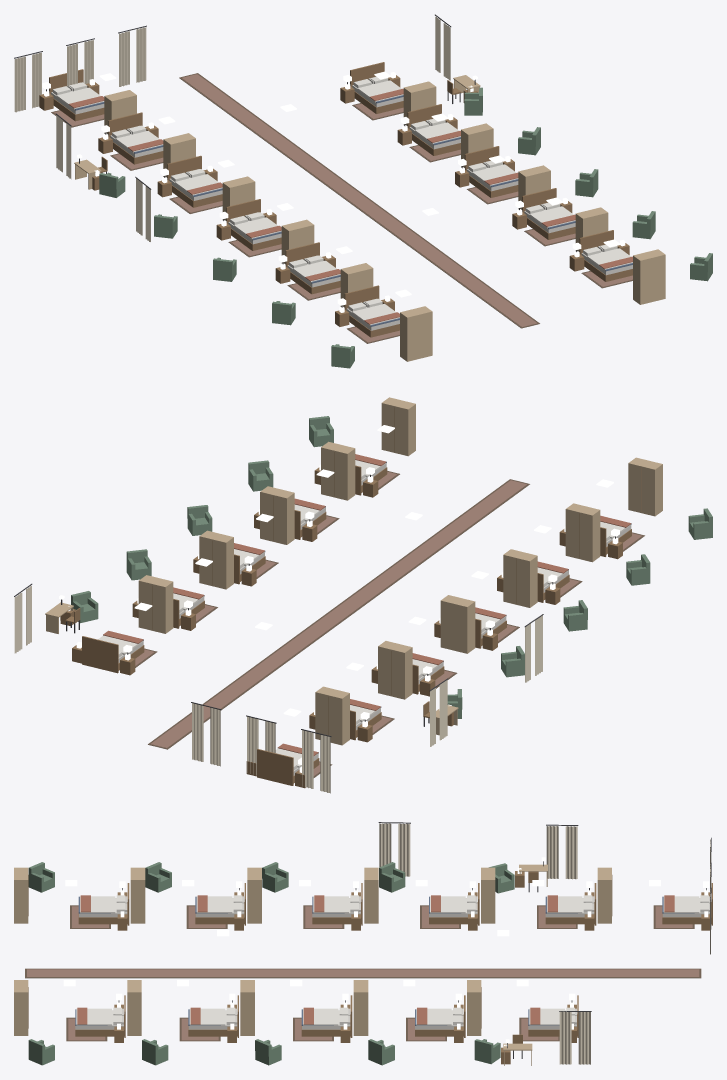
Rendered from fine-s1.glb.
3 views of the same model, one above another, from view 1: azimuth 30°, elevation 25°; view 2: azimuth 150°, elevation 25°; view 3: azimuth 270°, elevation 25° (orthographic). The views are drawn at different scales.
Parts seen in each view (by area): view 1: soft-s1, dresser.010, dresser.004, bed-frame.010, bed-frame.008, bed-frame.009, bed-frame.007, bed-frame.006, bed-frame.002, bed-frame.000, bed-frame.001, bed-frame.004 (+12 smaller); view 2: soft-s1, dresser.009, dresser.007, dresser.006, dresser.010, dresser.008, dresser.000, dresser.005, dresser.003, dresser.002, dresser.001, dresser.004 (+10 smaller); view 3: soft-s1, dresser.009, dresser.001, dresser.005, dresser.007, dresser.008, dresser.006, dresser.010, dresser.000, dresser.002, dresser.003, dresser.004 (+21 smaller).
Boxes of the visible parts, bbox=[...] form: soft-s1: bbox=[14, 14, 632, 343]; dresser.010: bbox=[400, 306, 432, 361]; dresser.004: bbox=[633, 249, 665, 304]; bed-frame.010: bbox=[344, 285, 399, 337]; bed-frame.008: bbox=[226, 199, 281, 250]; bed-frame.009: bbox=[285, 242, 340, 294]; bed-frame.007: bbox=[167, 155, 222, 207]; bed-frame.006: bbox=[108, 112, 163, 164]; bed-frame.002: bbox=[464, 146, 518, 197]; bed-frame.000: bbox=[350, 62, 403, 113]; bed-frame.001: bbox=[407, 104, 460, 155]; bed-frame.004: bbox=[579, 230, 632, 281]; soft-s1: bbox=[14, 454, 644, 793]; dresser.009: bbox=[565, 503, 600, 562]; dresser.007: bbox=[440, 595, 475, 653]; dresser.006: bbox=[378, 641, 412, 699]; dresser.010: bbox=[628, 457, 662, 516]; dresser.008: bbox=[503, 549, 537, 607]; dresser.000: bbox=[138, 575, 173, 633]; dresser.005: bbox=[315, 686, 349, 745]; dresser.003: bbox=[321, 441, 355, 500]; dresser.002: bbox=[260, 486, 294, 544]; dresser.001: bbox=[199, 530, 233, 589]; dresser.004: bbox=[381, 397, 415, 456]; soft-s1: bbox=[25, 822, 711, 1064]; dresser.009: bbox=[130, 867, 145, 923]; dresser.001: bbox=[353, 980, 368, 1035]; dresser.005: bbox=[597, 867, 612, 923]; dresser.007: bbox=[364, 867, 378, 923]; dresser.008: bbox=[247, 867, 261, 923]; dresser.006: bbox=[481, 867, 495, 923]; dresser.010: bbox=[14, 867, 28, 923]; dresser.000: bbox=[467, 980, 481, 1035]; dresser.002: bbox=[240, 980, 254, 1035]; dresser.003: bbox=[127, 980, 141, 1035]; dresser.004: bbox=[14, 980, 28, 1035].
Size of the model in its own units: 18.61 by 2.5 by 29.01.
